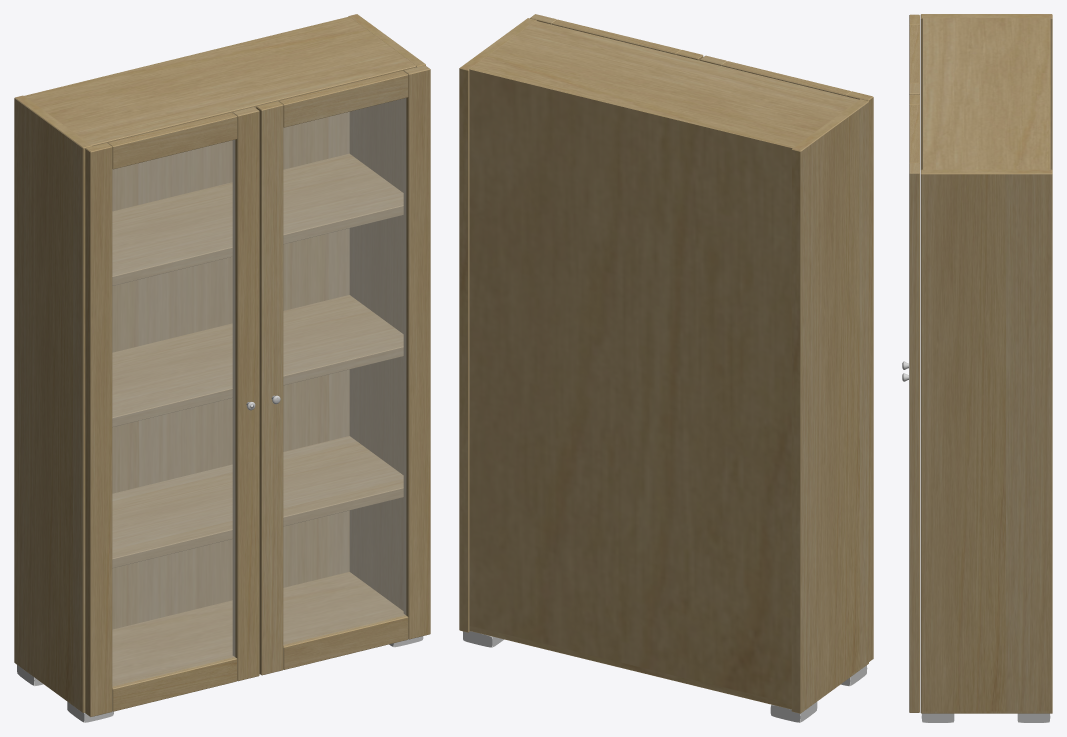
The model's file is bookcase.glb.
3 renders of one model, left to right at view 1: azimuth 30°, elevation 25°; view 2: azimuth 150°, elevation 25°; view 3: azimuth 270°, elevation 25°, orthographic. The views are drawn at different scales.
Parts seen in each view (by area): view 1: Cube.006_Cube.008, Plane, Cube.011_Cube.016, Cube.014_Cube.003, Cube.001; view 2: Cube.014_Cube.003, Cube.006_Cube.008, Cube.011_Cube.016, Cube.001; view 3: Cube.006_Cube.008, Cube.011_Cube.016, Cube.001, Cube.014_Cube.003.
Boxes of the visible parts, box(x1,y1,x2,y2) form: Cube.006_Cube.008: box(14, 14, 425, 712); Plane: box(112, 98, 405, 686); Cube.011_Cube.016: box(85, 65, 430, 716); Cube.014_Cube.003: box(20, 16, 349, 629); Cube.001: box(17, 636, 423, 722); Cube.014_Cube.003: box(469, 69, 796, 703); Cube.006_Cube.008: box(459, 18, 868, 713); Cube.011_Cube.016: box(530, 14, 873, 661); Cube.001: box(463, 631, 867, 722); Cube.006_Cube.008: box(920, 14, 1052, 713); Cube.011_Cube.016: box(909, 14, 919, 712); Cube.001: box(921, 713, 1050, 722); Cube.014_Cube.003: box(1049, 16, 1050, 169).
Size of the model in its own units: 0.919 by 1.47 by 0.3646.
Materials: 4 (1 with a texture image).
